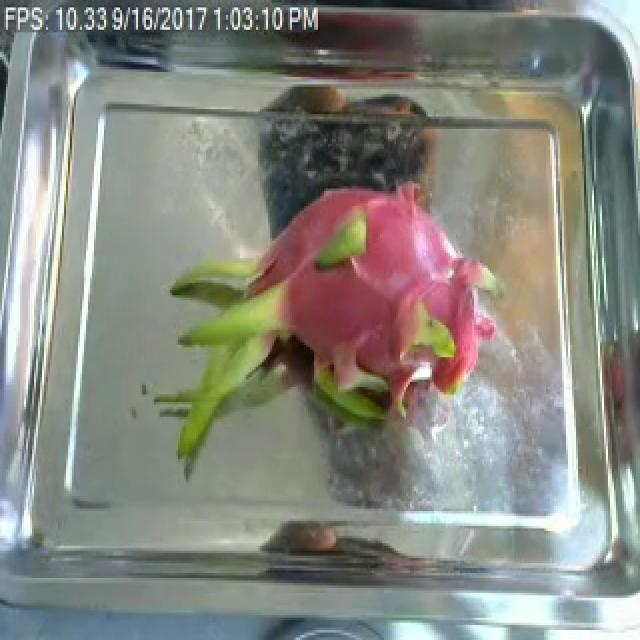fruit: (142, 156, 492, 484)
